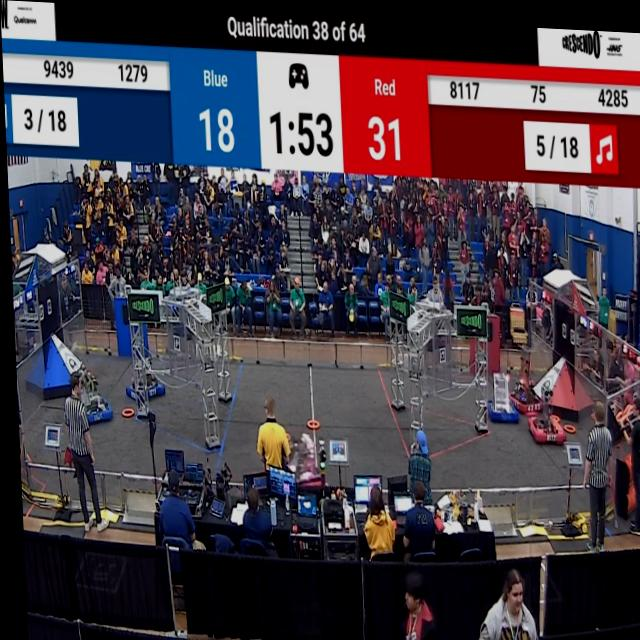Robot: (519, 359, 566, 442), (281, 419, 323, 488), (70, 358, 111, 427), (501, 334, 536, 409), (121, 343, 161, 404), (483, 356, 516, 423)
